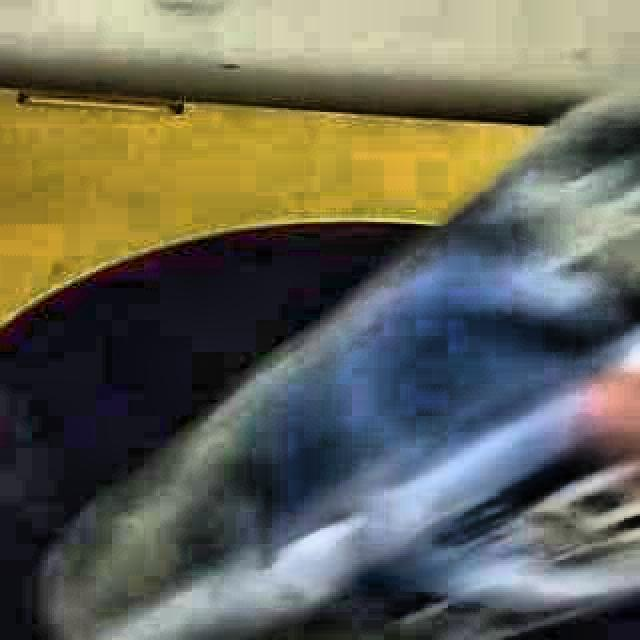plastic: (48, 100, 640, 640)
